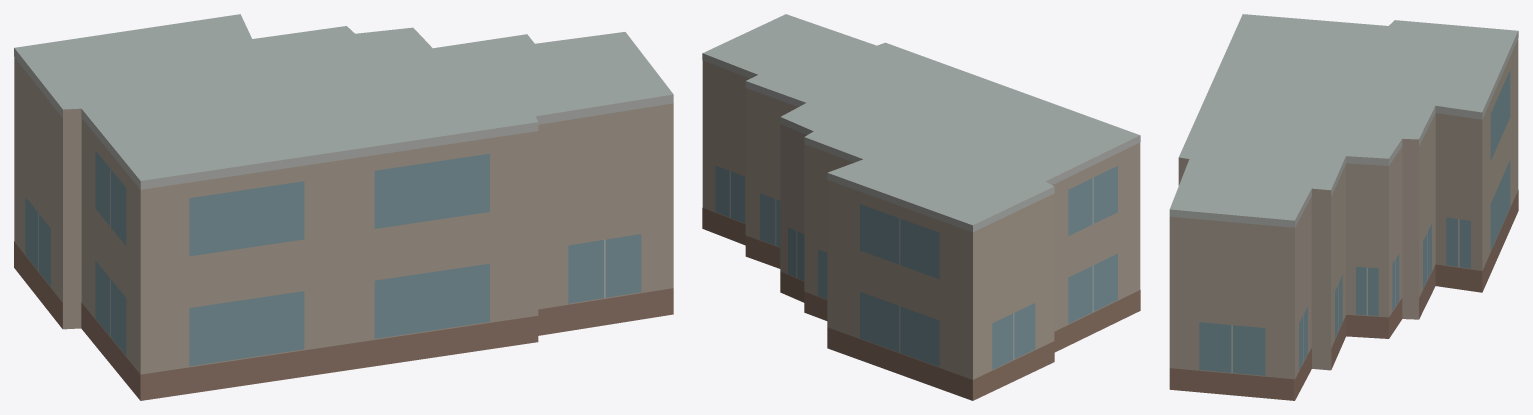
File: survey-upis-32659986.glb
The picture shows the model from 3 angles, left to right: view 1: azimuth 30°, elevation 25°; view 2: azimuth 150°, elevation 25°; view 3: azimuth 270°, elevation 25°; orthographic projection. The views are drawn at different scales.
Parts seen in each view (by area): view 1: survey-upis-32659986.tmp; view 2: survey-upis-32659986.tmp; view 3: survey-upis-32659986.tmp.
Part boxes in pixels (left/top/right/bottom): survey-upis-32659986.tmp: left=14, top=14, right=673, bottom=400; survey-upis-32659986.tmp: left=702, top=14, right=1140, bottom=400; survey-upis-32659986.tmp: left=1169, top=14, right=1518, bottom=400.
Bounding box in the file's own units: 15.01 × 6.1 × 10.71.
